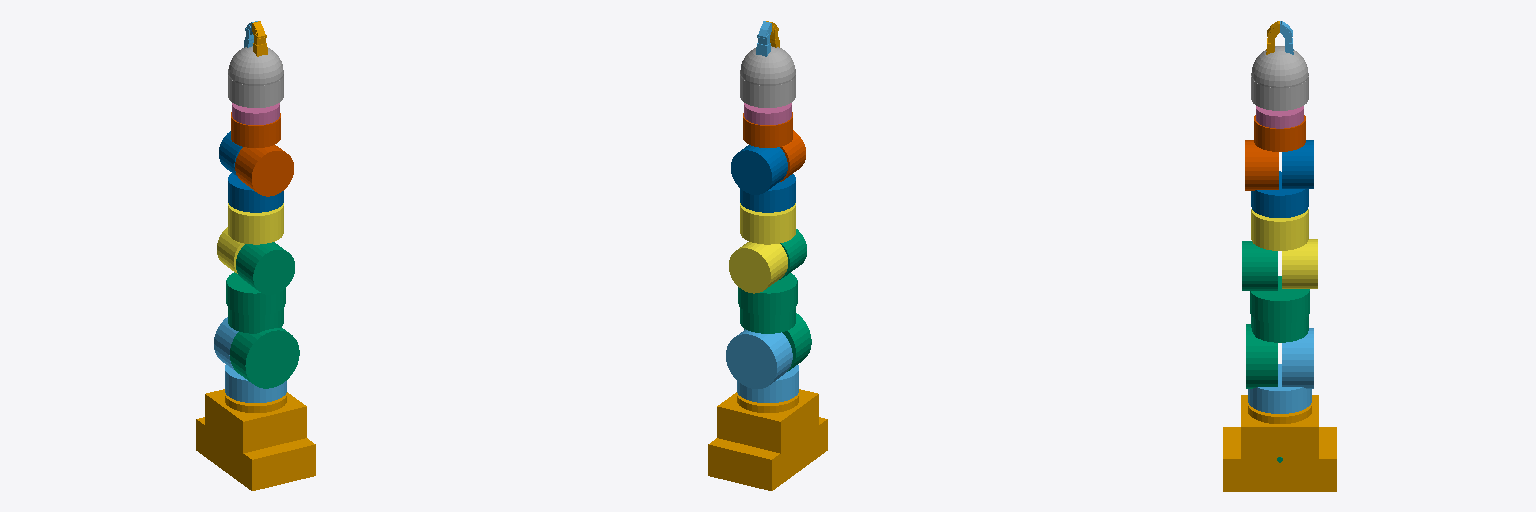
URDF robot description (P-Rob3):
<?xml version="1.0"?>
<robot name="P-Rob3" xmlns:xacro="http://ros.org/wiki/xacro">
  <link name="base_link">
    <visual>
      <origin xyz="0 0 0.173" rpy="9.929139e-07 0 0"/>
      <geometry>
        <cylinder radius="0.09" length="0.1"/>
      </geometry>
    </visual>
    <collision>
      <origin xyz="0 0 0.173" rpy="9.929139e-07 0 0"/>
      <geometry>
        <cylinder radius="0.09" length="0.1"/>
      </geometry>
    </collision>
    <visual>
      <origin xyz="0 0 0.051" rpy="0 0 0"/>
      <geometry>
        <box size="0.21 0.32 0.1"/>
      </geometry>
    </visual>
    <collision>
      <origin xyz="0 0 0.051" rpy="0 0 0"/>
      <geometry>
        <box size="0.21 0.32 0.1"/>
      </geometry>
    </collision>
    <visual>
      <origin xyz="0 0 0.151" rpy="0 0 0"/>
      <geometry>
        <box size="0.21 0.22 0.1"/>
      </geometry>
    </visual>
    <collision>
      <origin xyz="0 0 0.151" rpy="0 0 0"/>
      <geometry>
        <box size="0.21 0.22 0.1"/>
      </geometry>
    </collision>
  </link>
  <joint name="1" type="revolute">
    <parent link="base_link"/>
    <child link="link_1_2"/>
    <axis xyz="0 0 1"/>
    <limit effort="159.696" lower="-2.95903" upper="2.95903" velocity="1.74533"/>
    <origin xyz="0 0 0.212" rpy="0 0 0"/>
  </joint>
  <link name="link_1_2">
    <visual>
      <origin xyz="0 0 0.0555" rpy="9.929139e-07 0 0"/>
      <geometry>
        <cylinder radius="0.09" length="0.07"/>
      </geometry>
    </visual>
    <collision>
      <origin xyz="0 0 0.0555" rpy="9.929139e-07 0 0"/>
      <geometry>
        <cylinder radius="0.09" length="0.07"/>
      </geometry>
    </collision>
    <visual>
      <origin xyz="0 0.05 0.1485" rpy="1.5707963 0 0"/>
      <geometry>
        <cylinder radius="0.085" length="0.09"/>
      </geometry>
    </visual>
    <collision>
      <origin xyz="0 0.05 0.1485" rpy="1.5707963 0 0"/>
      <geometry>
        <cylinder radius="0.085" length="0.09"/>
      </geometry>
    </collision>
  </link>
  <joint name="2" type="revolute">
    <parent link="link_1_2"/>
    <child link="link_2_3"/>
    <axis xyz="0 1 0"/>
    <limit effort="159.696" lower="-1.91148" upper="1.91148" velocity="1.74533"/>
    <origin xyz="0 0 0.1505" rpy="0 0 0"/>
  </joint>
  <link name="link_2_3">
    <visual>
      <origin xyz="0 -0.05 0.005" rpy="1.5707963 0 0"/>
      <geometry>
        <cylinder radius="0.09" length="0.09"/>
      </geometry>
    </visual>
    <collision>
      <origin xyz="0 -0.05 0.005" rpy="1.5707963 0 0"/>
      <geometry>
        <cylinder radius="0.09" length="0.09"/>
      </geometry>
    </collision>
    <visual>
      <origin xyz="0 -3.03039e-07 0.115" rpy="-3.1415894 0 0"/>
      <geometry>
        <cylinder radius="0.08" length="0.06"/>
      </geometry>
    </visual>
    <collision>
      <origin xyz="0 -3.03039e-07 0.115" rpy="-3.1415894 0 0"/>
      <geometry>
        <cylinder radius="0.08" length="0.06"/>
      </geometry>
    </collision>
    <visual>
      <origin xyz="0 -0.055 0.285" rpy="1.5707963 0 0"/>
      <geometry>
        <cylinder radius="0.07" length="0.1"/>
      </geometry>
    </visual>
    <collision>
      <origin xyz="0 -0.055 0.285" rpy="1.5707963 0 0"/>
      <geometry>
        <cylinder radius="0.07" length="0.1"/>
      </geometry>
    </collision>
    <visual>
      <origin xyz="0 0 0.18" rpy="-3.1415894 0 0"/>
      <geometry>
        <cylinder radius="0.085" length="0.07"/>
      </geometry>
    </visual>
    <collision>
      <origin xyz="0 0 0.18" rpy="-3.1415894 0 0"/>
      <geometry>
        <cylinder radius="0.085" length="0.07"/>
      </geometry>
    </collision>
  </link>
  <joint name="3" type="revolute">
    <parent link="link_2_3"/>
    <child link="link_3_4"/>
    <axis xyz="0 1 0"/>
    <limit effort="80.1455" lower="-1.99927" upper="1.99927" velocity="2.44346"/>
    <origin xyz="0 0 0.29" rpy="0 0 0"/>
  </joint>
  <link name="link_3_4">
    <visual>
      <origin xyz="0 0.055 -0.0005" rpy="1.5707963 0 0"/>
      <geometry>
        <cylinder radius="0.07" length="0.1"/>
      </geometry>
    </visual>
    <collision>
      <origin xyz="0 0.055 -0.0005" rpy="1.5707963 0 0"/>
      <geometry>
        <cylinder radius="0.07" length="0.1"/>
      </geometry>
    </collision>
    <visual>
      <origin xyz="0 0 0.1225" rpy="-3.1415894 0 0"/>
      <geometry>
        <cylinder radius="0.08" length="0.09"/>
      </geometry>
    </visual>
    <collision>
      <origin xyz="0 0 0.1225" rpy="-3.1415894 0 0"/>
      <geometry>
        <cylinder radius="0.08" length="0.09"/>
      </geometry>
    </collision>
  </link>
  <joint name="4" type="revolute">
    <parent link="link_3_4"/>
    <child link="link_4_5"/>
    <axis xyz="0 0 1"/>
    <limit effort="30.1005" lower="-2.95153" upper="2.95153" velocity="2.79253"/>
    <origin xyz="0 0 0.164" rpy="0 0 0"/>
  </joint>
  <link name="link_4_5">
    <visual>
      <origin xyz="0 0 0.04900001" rpy="9.929139e-07 0 0"/>
      <geometry>
        <cylinder radius="0.08" length="0.07"/>
      </geometry>
    </visual>
    <collision>
      <origin xyz="0 0 0.04900001" rpy="9.929139e-07 0 0"/>
      <geometry>
        <cylinder radius="0.08" length="0.07"/>
      </geometry>
    </collision>
    <visual>
      <origin xyz="0 0.05 0.142" rpy="1.5707963 0 0"/>
      <geometry>
        <cylinder radius="0.069" length="0.09"/>
      </geometry>
    </visual>
    <collision>
      <origin xyz="0 0.05 0.142" rpy="1.5707963 0 0"/>
      <geometry>
        <cylinder radius="0.069" length="0.09"/>
      </geometry>
    </collision>
  </link>
  <joint name="5" type="revolute">
    <parent link="link_4_5"/>
    <child link="link_5_6"/>
    <axis xyz="0 1 0"/>
    <limit effort="30.1005" lower="-1.9977" upper="1.9977" velocity="2.79253"/>
    <origin xyz="0 0 0.1455" rpy="0 0 0"/>
  </joint>
  <link name="link_5_6">
    <visual>
      <origin xyz="0 -0.05 -0.0055" rpy="1.5707963 0 0"/>
      <geometry>
        <cylinder radius="0.071" length="0.095"/>
      </geometry>
    </visual>
    <collision>
      <origin xyz="0 -0.05 -0.0055" rpy="1.5707963 0 0"/>
      <geometry>
        <cylinder radius="0.071" length="0.095"/>
      </geometry>
    </collision>
    <visual>
      <origin xyz="0 -3.03039e-07 0.1045" rpy="-3.1415894 0 0"/>
      <geometry>
        <cylinder radius="0.073" length="0.07"/>
      </geometry>
    </visual>
    <collision>
      <origin xyz="0 -3.03039e-07 0.1045" rpy="-3.1415894 0 0"/>
      <geometry>
        <cylinder radius="0.073" length="0.07"/>
      </geometry>
    </collision>
  </link>
  <joint name="6" type="revolute">
    <parent link="link_5_6"/>
    <child link="link_6_top"/>
    <axis xyz="0 0 1"/>
    <limit effort="16.4816" lower="-2.95833" upper="2.95833" velocity="2.79253"/>
    <origin xyz="0 0 0.129" rpy="0 0 0"/>
  </joint>
  <link name="link_6_top">
    <visual>
      <origin xyz="0 0 0.02775" rpy="-3.1415894 0 0"/>
      <geometry>
        <cylinder radius="0.0683" length="0.04"/>
      </geometry>
    </visual>
    <collision>
      <origin xyz="0 0 0.02775" rpy="-3.1415894 0 0"/>
      <geometry>
        <cylinder radius="0.0683" length="0.04"/>
      </geometry>
    </collision>
  </link>
  <link name="link_base_tcp180_50255">
    <visual>
      <origin xyz="0 0 0.04675" rpy="0 0 0"/>
      <geometry>
        <sphere radius="0.08"/>
      </geometry>
    </visual>
    <collision>
      <origin xyz="0 0 0.04675" rpy="0 0 0"/>
      <geometry>
        <sphere radius="0.08"/>
      </geometry>
    </collision>
    <visual>
      <origin xyz="0 1.34683e-07 0.00675" rpy="-3.1415894 0 0"/>
      <geometry>
        <cylinder radius="0.08" length="0.07"/>
      </geometry>
    </visual>
    <collision>
      <origin xyz="0 1.34683e-07 0.00675" rpy="-3.1415894 0 0"/>
      <geometry>
        <cylinder radius="0.08" length="0.07"/>
      </geometry>
    </collision>
  </link>
  <joint name="link_6_top_link_base_tcp180_50255_joint" type="fixed">
    <parent link="link_6_top"/>
    <child link="link_base_tcp180_50255"/>
    <origin xyz="0 0 0.0985" rpy="0 0 0"/>
  </joint>
  <joint name="7 left" type="revolute">
    <parent link="link_base_tcp180_50255"/>
    <child link="left finger_50340"/>
    <axis xyz="-1 -2.614661e-06 4.528642e-07"/>
    <limit effort="5.44164" lower="0" upper="1.0472" velocity="1.0472"/>
    <origin xyz="0 0 0.058" rpy="0.3430009 4.528642e-07 3.14159"/>
  </joint>
  <link name="left finger_50340">
    <visual>
      <origin xyz="0 0.0437334 0.0442707" rpy="-0.2879853 0 0"/>
      <geometry>
        <box size="0.034 0.023 0.07"/>
      </geometry>
    </visual>
    <collision>
      <origin xyz="0 0.0437334 0.0442707" rpy="-0.2879853 0 0"/>
      <geometry>
        <box size="0.034 0.023 0.07"/>
      </geometry>
    </collision>
    <visual>
      <origin xyz="0 0.0561311 0.0865105" rpy="-0.3926997 0 0"/>
      <geometry>
        <box size="0.03 0.02 0.04"/>
      </geometry>
    </visual>
    <collision>
      <origin xyz="0 0.0561311 0.0865105" rpy="-0.3926997 0 0"/>
      <geometry>
        <box size="0.03 0.02 0.04"/>
      </geometry>
    </collision>
    <visual>
      <origin xyz="0 0.0566597 0.105248" rpy="0.261798 0 0"/>
      <geometry>
        <box size="0.026 0.021 0.03"/>
      </geometry>
    </visual>
    <collision>
      <origin xyz="0 0.0566597 0.105248" rpy="0.261798 0 0"/>
      <geometry>
        <box size="0.026 0.021 0.03"/>
      </geometry>
    </collision>
    <visual>
      <origin xyz="0 0.048226 0.127972" rpy="-0.314166 0 0"/>
      <geometry>
        <box size="0.026 0.004 0.025"/>
      </geometry>
    </visual>
    <collision>
      <origin xyz="0 0.048226 0.127972" rpy="-0.314166 0 0"/>
      <geometry>
        <box size="0.026 0.004 0.025"/>
      </geometry>
    </collision>
    <visual>
      <origin xyz="0 0.058726 0.127073" rpy="0.62831 0 0"/>
      <geometry>
        <box size="0.024 0.007 0.025"/>
      </geometry>
    </visual>
    <collision>
      <origin xyz="0 0.058726 0.127073" rpy="0.62831 0 0"/>
      <geometry>
        <box size="0.024 0.007 0.025"/>
      </geometry>
    </collision>
    <visual>
      <origin xyz="0 0.052619 0.121813" rpy="1.23045 0 0"/>
      <geometry>
        <box size="0.022 0.014 0.014"/>
      </geometry>
    </visual>
    <collision>
      <origin xyz="0 0.052619 0.121813" rpy="1.23045 0 0"/>
      <geometry>
        <box size="0.022 0.014 0.014"/>
      </geometry>
    </collision>
    <visual>
      <origin xyz="0 0.0673743 0.108562" rpy="0.2355853 0 0"/>
      <geometry>
        <box size="0.024 0.007 0.02"/>
      </geometry>
    </visual>
    <collision>
      <origin xyz="0 0.0673743 0.108562" rpy="0.2355853 0 0"/>
      <geometry>
        <box size="0.024 0.007 0.02"/>
      </geometry>
    </collision>
  </link>
  <joint name="7" type="revolute">
    <parent link="link_base_tcp180_50255"/>
    <child link="right finger_50292"/>
    <axis xyz="-1 0 0"/>
    <limit effort="5.44164" lower="0" upper="1.0472" velocity="1.0472"/>
    <origin xyz="0 0 0.058" rpy="0.343 0 0"/>
  </joint>
  <link name="right finger_50292">
    <visual>
      <origin xyz="0 0.0437334 0.0442707" rpy="-0.2879853 0 0"/>
      <geometry>
        <box size="0.034 0.023 0.07"/>
      </geometry>
    </visual>
    <collision>
      <origin xyz="0 0.0437334 0.0442707" rpy="-0.2879853 0 0"/>
      <geometry>
        <box size="0.034 0.023 0.07"/>
      </geometry>
    </collision>
    <visual>
      <origin xyz="0 0.0561311 0.0865105" rpy="-0.3926997 0 0"/>
      <geometry>
        <box size="0.03 0.02 0.04"/>
      </geometry>
    </visual>
    <collision>
      <origin xyz="0 0.0561311 0.0865105" rpy="-0.3926997 0 0"/>
      <geometry>
        <box size="0.03 0.02 0.04"/>
      </geometry>
    </collision>
    <visual>
      <origin xyz="0 0.0566597 0.105248" rpy="0.261798 0 0"/>
      <geometry>
        <box size="0.026 0.021 0.03"/>
      </geometry>
    </visual>
    <collision>
      <origin xyz="0 0.0566597 0.105248" rpy="0.261798 0 0"/>
      <geometry>
        <box size="0.026 0.021 0.03"/>
      </geometry>
    </collision>
    <visual>
      <origin xyz="0 0.048226 0.127972" rpy="-0.314166 0 0"/>
      <geometry>
        <box size="0.026 0.004 0.025"/>
      </geometry>
    </visual>
    <collision>
      <origin xyz="0 0.048226 0.127972" rpy="-0.314166 0 0"/>
      <geometry>
        <box size="0.026 0.004 0.025"/>
      </geometry>
    </collision>
    <visual>
      <origin xyz="0 0.058726 0.127073" rpy="0.62831 0 0"/>
      <geometry>
        <box size="0.024 0.007 0.025"/>
      </geometry>
    </visual>
    <collision>
      <origin xyz="0 0.058726 0.127073" rpy="0.62831 0 0"/>
      <geometry>
        <box size="0.024 0.007 0.025"/>
      </geometry>
    </collision>
    <visual>
      <origin xyz="0 0.052619 0.121813" rpy="1.23045 0 0"/>
      <geometry>
        <box size="0.022 0.014 0.014"/>
      </geometry>
    </visual>
    <collision>
      <origin xyz="0 0.052619 0.121813" rpy="1.23045 0 0"/>
      <geometry>
        <box size="0.022 0.014 0.014"/>
      </geometry>
    </collision>
    <visual>
      <origin xyz="0 0.0673743 0.108562" rpy="0.2355853 0 0"/>
      <geometry>
        <box size="0.024 0.007 0.02"/>
      </geometry>
    </visual>
    <collision>
      <origin xyz="0 0.0673743 0.108562" rpy="0.2355853 0 0"/>
      <geometry>
        <box size="0.024 0.007 0.02"/>
      </geometry>
    </collision>
  </link>
  <link name="button 7">
  </link>
  <joint name="link_6_top_button 7_joint" type="fixed">
    <parent link="link_6_top"/>
    <child link="button 7"/>
    <origin xyz="0.0503023 0.042999 0.0089" rpy="0 0 2.28"/>
  </joint>
  <link name="button 6">
  </link>
  <joint name="link_6_top_button 6_joint" type="fixed">
    <parent link="link_6_top"/>
    <child link="button 6"/>
    <origin xyz="0.0642009 0.0156447 0.0089" rpy="0 0 1.8"/>
  </joint>
  <link name="button 5">
  </link>
  <joint name="link_6_top_button 5_joint" type="fixed">
    <parent link="link_6_top"/>
    <child link="button 5"/>
    <origin xyz="0.064216 -0.0150831 0.0089" rpy="0 0 1.3090003"/>
  </joint>
  <link name="button 4">
  </link>
  <joint name="link_6_top_button 4_joint" type="fixed">
    <parent link="link_6_top"/>
    <child link="button 4"/>
    <origin xyz="0.0502593 -0.0432647 0.0089" rpy="0 0 0.9162997"/>
  </joint>
  <link name="button 3">
  </link>
  <joint name="link_6_top_button 3_joint" type="fixed">
    <parent link="link_6_top"/>
    <child link="button 3"/>
    <origin xyz="-0.0505297 -0.0431944 0.0089" rpy="0 0 2.28"/>
  </joint>
  <link name="button 2">
  </link>
  <joint name="link_6_top_button 2_joint" type="fixed">
    <parent link="link_6_top"/>
    <child link="button 2"/>
    <origin xyz="-0.0642012 -0.0156443 0.0089" rpy="0 0 1.8"/>
  </joint>
  <link name="button 1">
  </link>
  <joint name="link_6_top_button 1_joint" type="fixed">
    <parent link="link_6_top"/>
    <child link="button 1"/>
    <origin xyz="-0.0643129 0.0151085 0.0089" rpy="0 0 1.3090003"/>
  </joint>
  <link name="button 0">
  </link>
  <joint name="link_6_top_button 0_joint" type="fixed">
    <parent link="link_6_top"/>
    <child link="button 0"/>
    <origin xyz="-0.0501799 0.0432036 0.0089" rpy="0 0 0.9162997"/>
  </joint>
  <link name="cap screw">
    <visual>
      <origin xyz="0 0 0.005" rpy="3.1415927 0 0"/>
      <geometry>
        <cylinder radius="0.005" length="0.01"/>
      </geometry>
    </visual>
    <collision>
      <origin xyz="0 0 0.005" rpy="3.1415927 0 0"/>
      <geometry>
        <cylinder radius="0.005" length="0.01"/>
      </geometry>
    </collision>
    <visual>
      <origin xyz="0 0 -0.005" rpy="-4.2146848e-08 0 0"/>
      <geometry>
        <cylinder radius="0.00833333" length="0.01"/>
      </geometry>
    </visual>
    <collision>
      <origin xyz="0 0 -0.005" rpy="-4.2146848e-08 0 0"/>
      <geometry>
        <cylinder radius="0.00833333" length="0.01"/>
      </geometry>
    </collision>
  </link>
  <joint name="base_link_cap screw_joint" type="fixed">
    <parent link="base_link"/>
    <child link="cap screw"/>
    <origin xyz="0.0962 0 0.099" rpy="3.1415927 -1.5707923 3.1415927"/>
  </joint>
</robot>

--- Render facts (derived) ---
Views: 3 orthographic renders of the robot side by side, from view 1: azimuth 30°, elevation 25°; view 2: azimuth 150°, elevation 25°; view 3: azimuth 270°, elevation 25°.
Model P-Rob3 with 19 links and 18 joints (8 revolute, 10 fixed), rooted at base_link, posed every joint at zero.
Visible links, largest first — view 1: base_link, link_2_3, link_5_6, link_base_tcp180_50255, link_3_4, link_1_2, link_4_5, link_6_top; view 2: base_link, link_1_2, link_2_3, link_3_4, link_4_5, link_base_tcp180_50255, link_5_6, link_6_top; view 3: base_link, link_2_3, link_3_4, link_1_2, link_base_tcp180_50255, link_4_5, link_5_6, link_6_top.
Link boxes in pixels (<box>): base_link: <box>196,389,315,490</box>; link_2_3: <box>226,242,299,388</box>; link_5_6: <box>231,112,293,196</box>; link_base_tcp180_50255: <box>228,46,283,107</box>; link_3_4: <box>217,203,283,273</box>; link_1_2: <box>214,317,286,402</box>; link_4_5: <box>219,131,283,212</box>; link_6_top: <box>232,103,279,124</box>; base_link: <box>708,389,827,490</box>; link_1_2: <box>726,329,798,402</box>; link_2_3: <box>738,229,811,371</box>; link_3_4: <box>729,203,795,293</box>; link_4_5: <box>731,145,795,212</box>; link_base_tcp180_50255: <box>740,46,795,107</box>; link_5_6: <box>743,112,805,181</box>; link_6_top: <box>744,103,791,124</box>; base_link: <box>1223,395,1336,491</box>; link_2_3: <box>1242,241,1309,388</box>; link_3_4: <box>1251,209,1317,288</box>; link_1_2: <box>1248,328,1313,413</box>; link_base_tcp180_50255: <box>1251,46,1308,110</box>; link_4_5: <box>1251,140,1313,217</box>; link_5_6: <box>1245,115,1305,190</box>; link_6_top: <box>1256,106,1303,128</box>.
Size in the robot's own frame: 0.2112 by 0.32 by 1.4 metres.
Geometry: primitives only (box / cylinder / sphere), no mesh files.